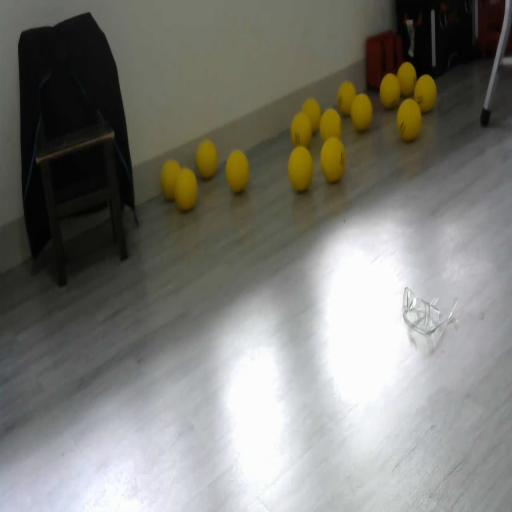FUEL: (287, 144, 314, 192), (320, 135, 346, 183), (173, 166, 198, 212), (396, 98, 422, 141), (225, 150, 250, 193), (195, 140, 218, 180), (350, 92, 372, 131), (379, 71, 401, 110), (414, 74, 436, 113), (290, 111, 312, 148), (319, 107, 342, 142), (397, 61, 417, 97)
